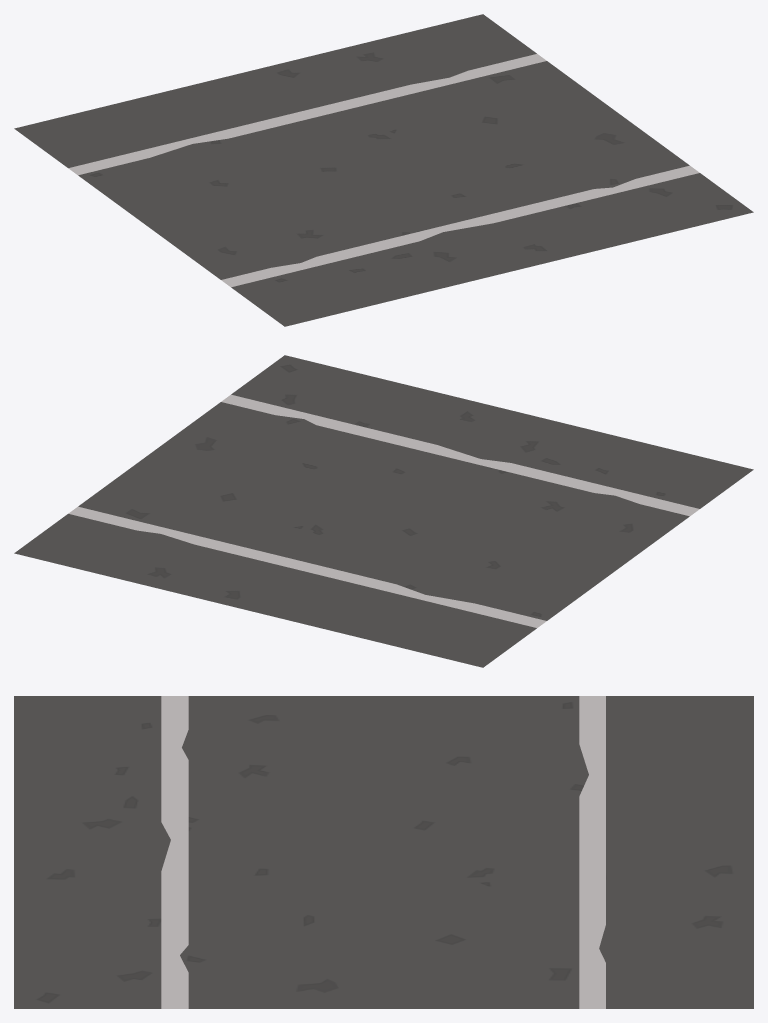
The model's file is SM_Env_Ground_Lines_01.fbx.
3 renders of one model, top to bottom at view 1: azimuth 30°, elevation 25°; view 2: azimuth 150°, elevation 25°; view 3: azimuth 270°, elevation 25°, orthographic. The views are drawn at different scales.
Visible parts, largest first — view 1: SM_Env_Ground_Lines_01; view 2: SM_Env_Ground_Lines_01; view 3: SM_Env_Ground_Lines_01.
Part boxes in pixels (box(x1,y1,x2,y2)): SM_Env_Ground_Lines_01: box(14, 14, 753, 326); SM_Env_Ground_Lines_01: box(14, 355, 753, 667); SM_Env_Ground_Lines_01: box(14, 696, 753, 1008).
Bounding box in the file's own units: 1000 × 0 × 1000.
